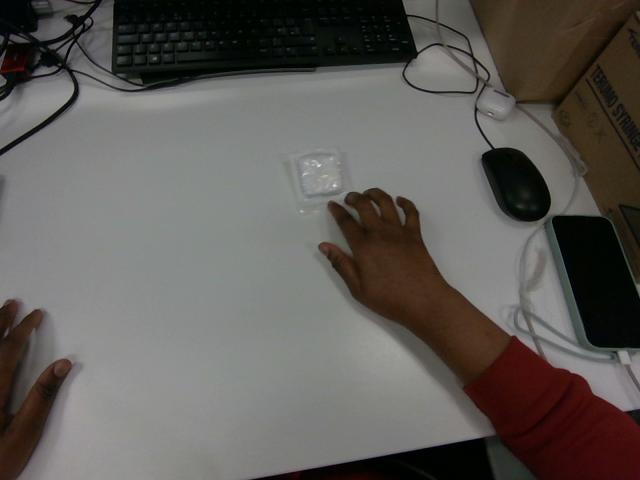gauze: (284, 149, 349, 213)
